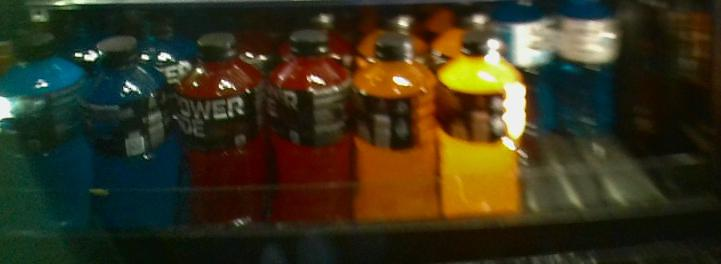bottle: (268, 24, 353, 226), (354, 34, 441, 226), (86, 36, 174, 220), (446, 29, 528, 224), (178, 40, 262, 228), (7, 28, 83, 227)
